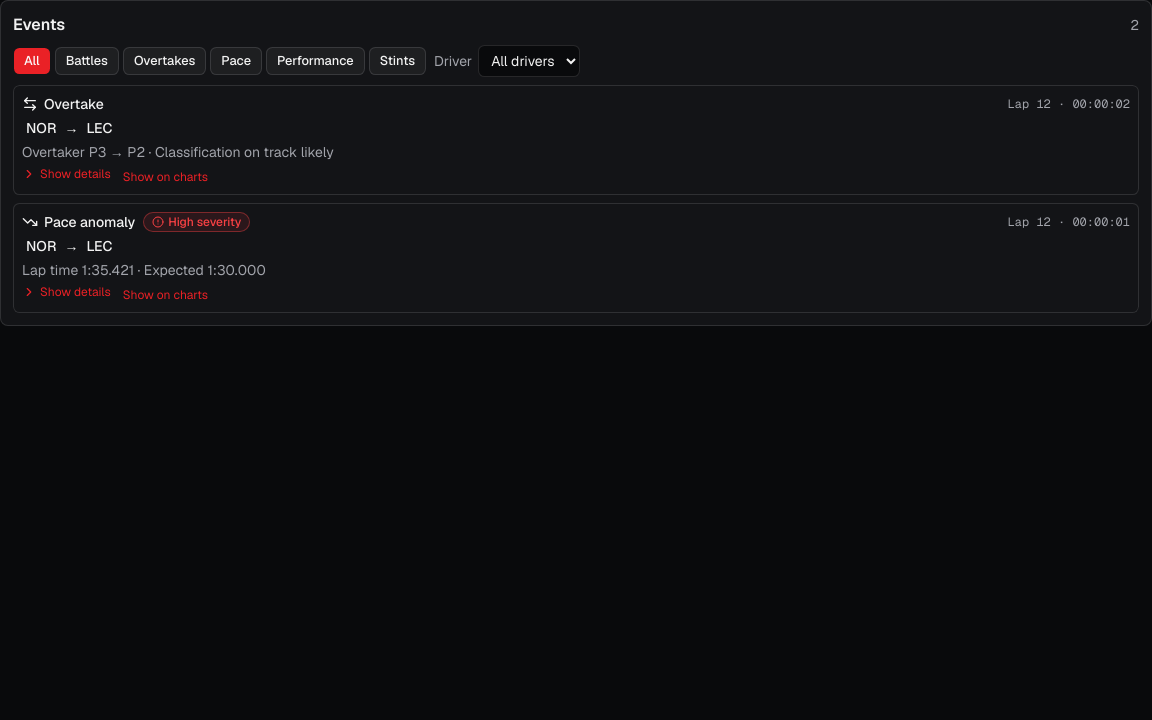
Test: EventFeed › shows severity only when set and confidence only when set
This screenshot has width=1152, height=720.
Check: the text "High severity" is shown once, box x1=143 y1=212 x2=250 y2=232
Click the button "Show details" below "Pace anomaly": (66, 292) x1=22 y1=284 x2=111 y2=300
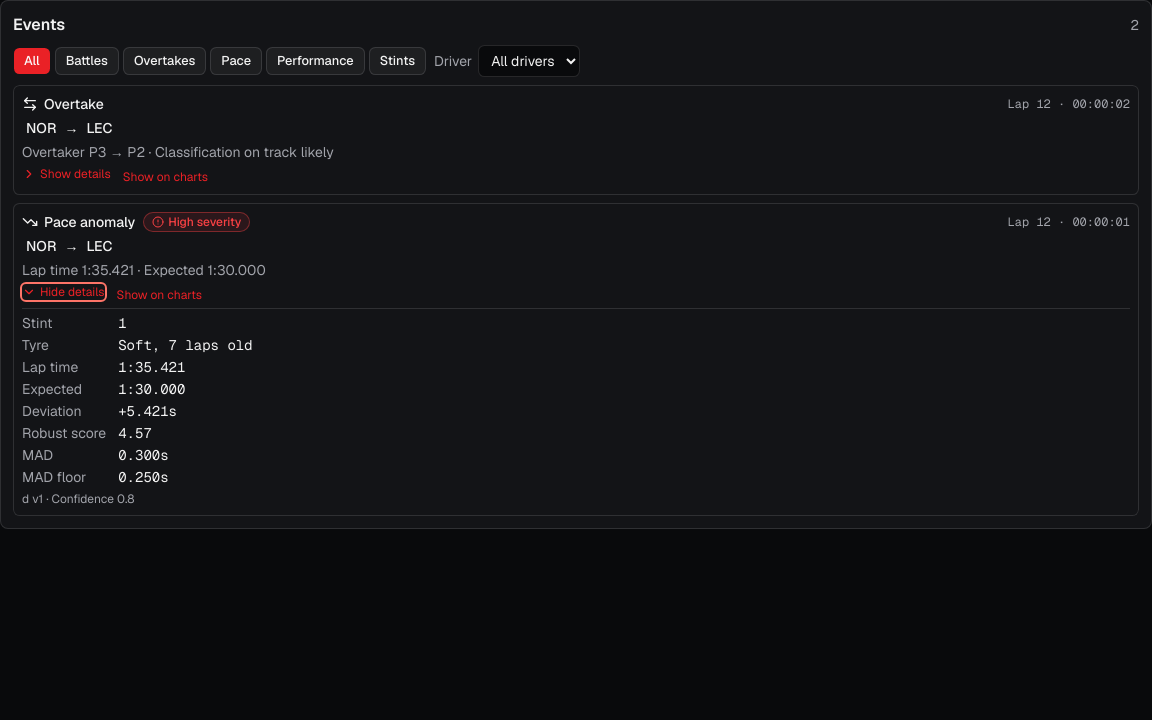
Check: the text "d v1 · Confidence 0.8" is shown, box x1=22 y1=491 x2=135 y2=507
